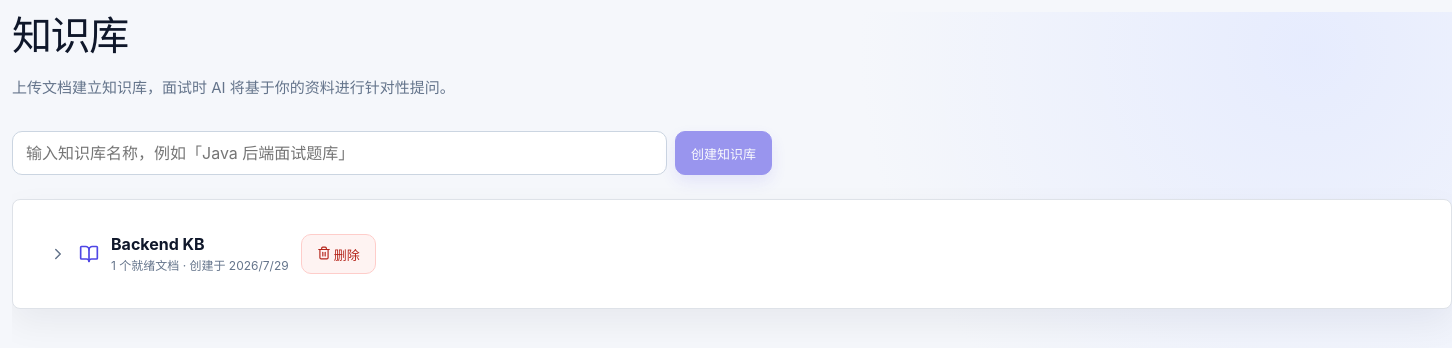
Test: 知识库页面 › 删除知识库需确认，成功后从列表移除
The image size is (1452, 348).
Expected: the heading "Backend KB" is shown, top-left (111, 234), bottom-right (205, 254)
Click the button "删除": (338, 254) top-left (301, 234), bottom-right (376, 274)
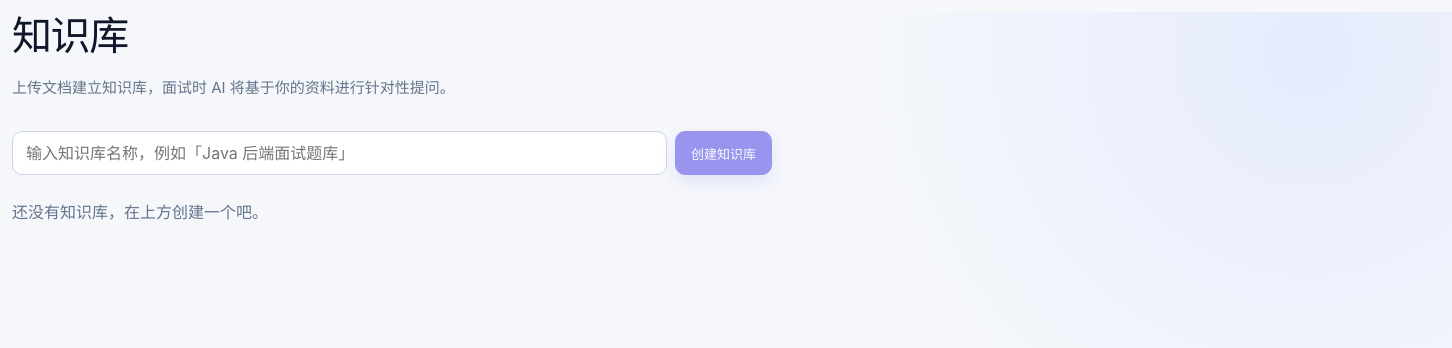
Now the button "Backend KB" is gone
